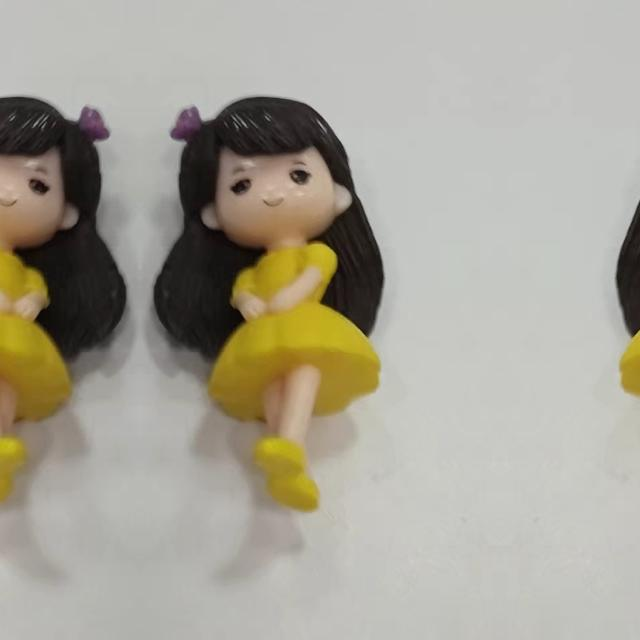woman dress: (230, 234, 382, 496), (0, 234, 50, 495), (618, 234, 640, 495)
woman head: (168, 97, 368, 245), (0, 97, 112, 245), (632, 97, 640, 245)
